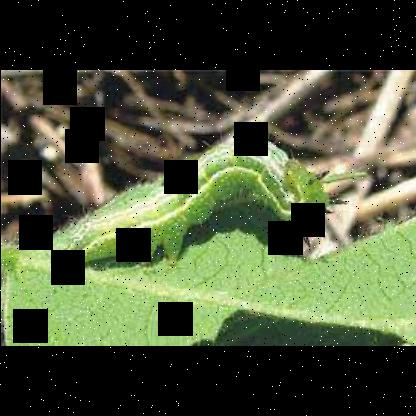agujero: (262, 174, 410, 268)
oruga: (40, 136, 330, 272)
